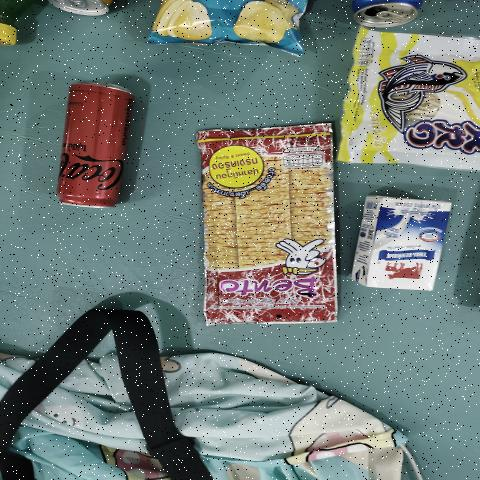bento_red: (207, 120, 330, 320)
coke_red: (54, 81, 149, 214)
thai_denmark: (360, 194, 442, 295)
